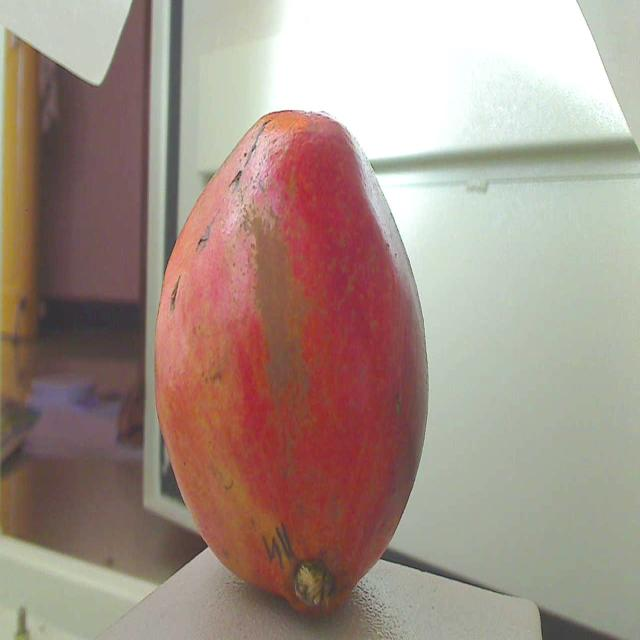pomegranate: (146, 89, 442, 640)
